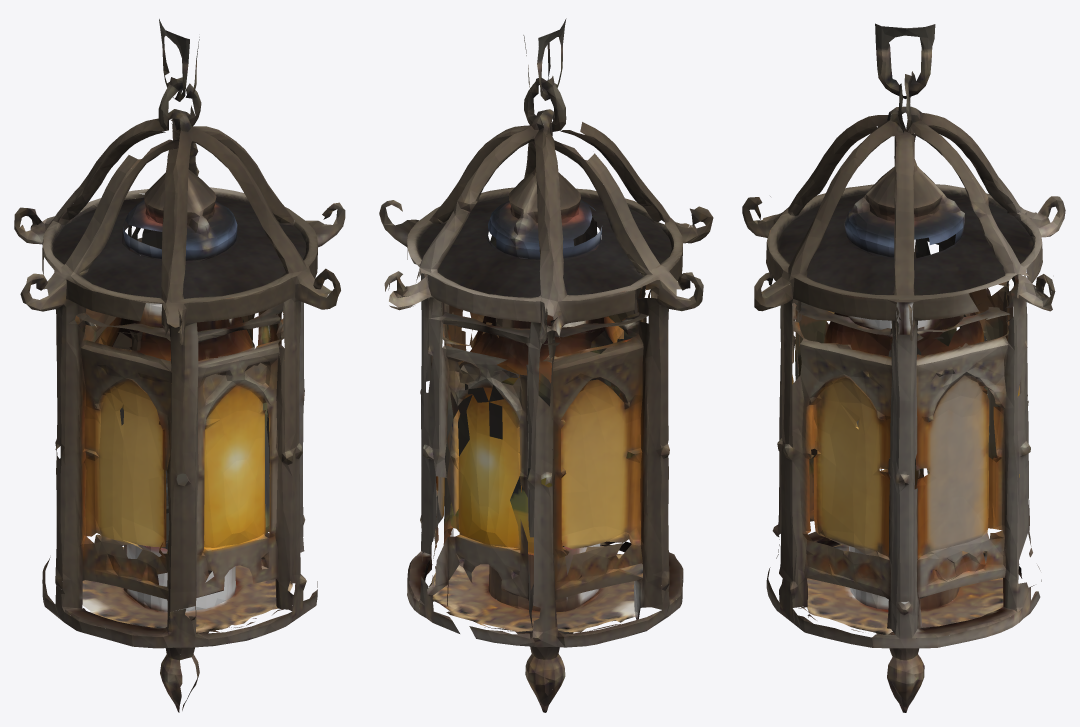
Rendered from prop_lantern.glb.
3 views of the same model, side by side, from view 1: azimuth 30°, elevation 25°; view 2: azimuth 150°, elevation 25°; view 3: azimuth 270°, elevation 25° (orthographic).
Visible parts, largest first — view 1: world; view 2: world; view 3: world.
Boxes of the visible parts, x1,y1,x2,y2 form: world: [14, 19, 345, 712]; world: [379, 18, 713, 712]; world: [742, 23, 1065, 712].
Bounding box in the file's own units: 0.4967 × 1 × 0.4241.
Materials: 1 (1 with a texture image).
